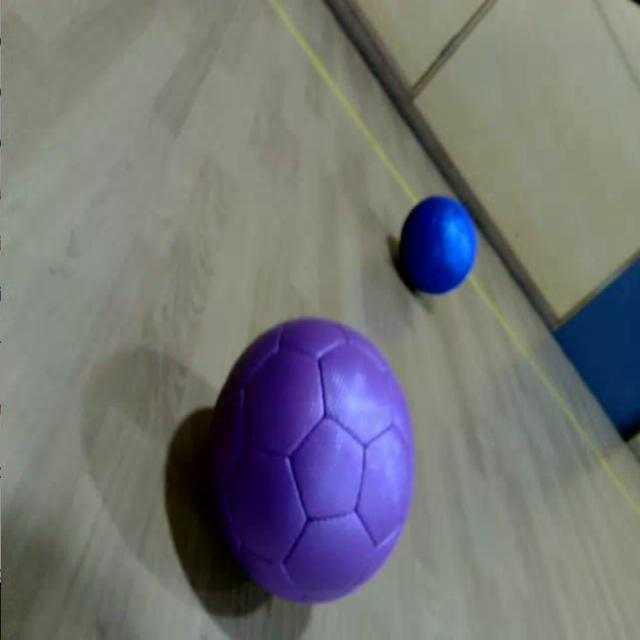blue_ball: (401, 192, 480, 298)
purple_ball: (206, 315, 418, 602)
